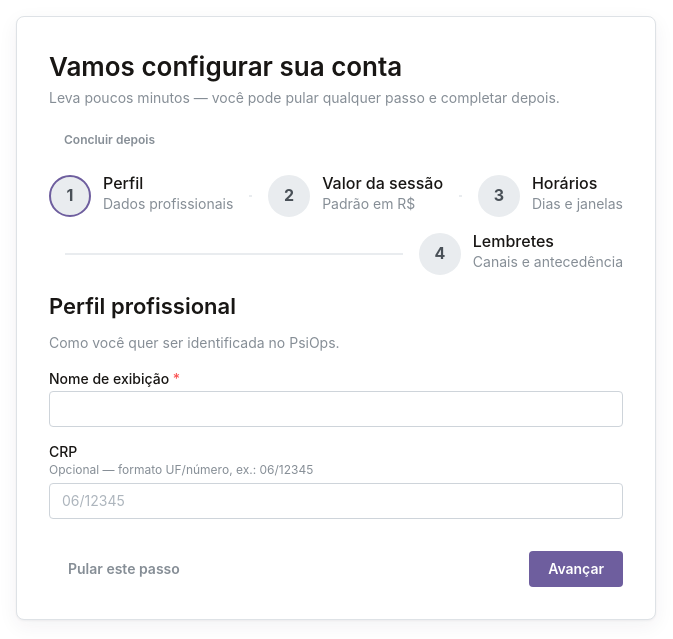
Test: OnboardingPage › pular um passo avança sem gravar dado
The width and height of the screenshot is (673, 639).
Expected: the form with test id "onboarding-step-perfil" is shown, [49,291,623,587]
Click the button "Pular este passo" at (124, 569), box [49,551,199,587]
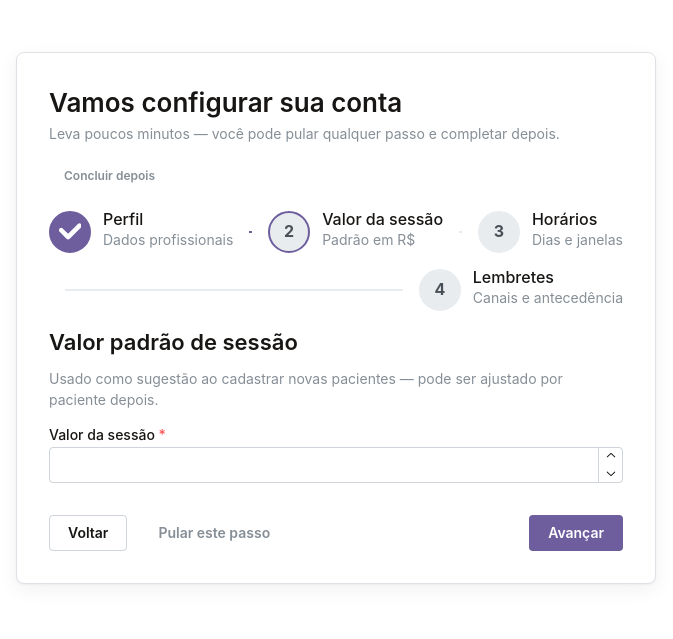
Expected: the form with test id "onboarding-step-valor-sessao" is shown, [49,327,623,551]
